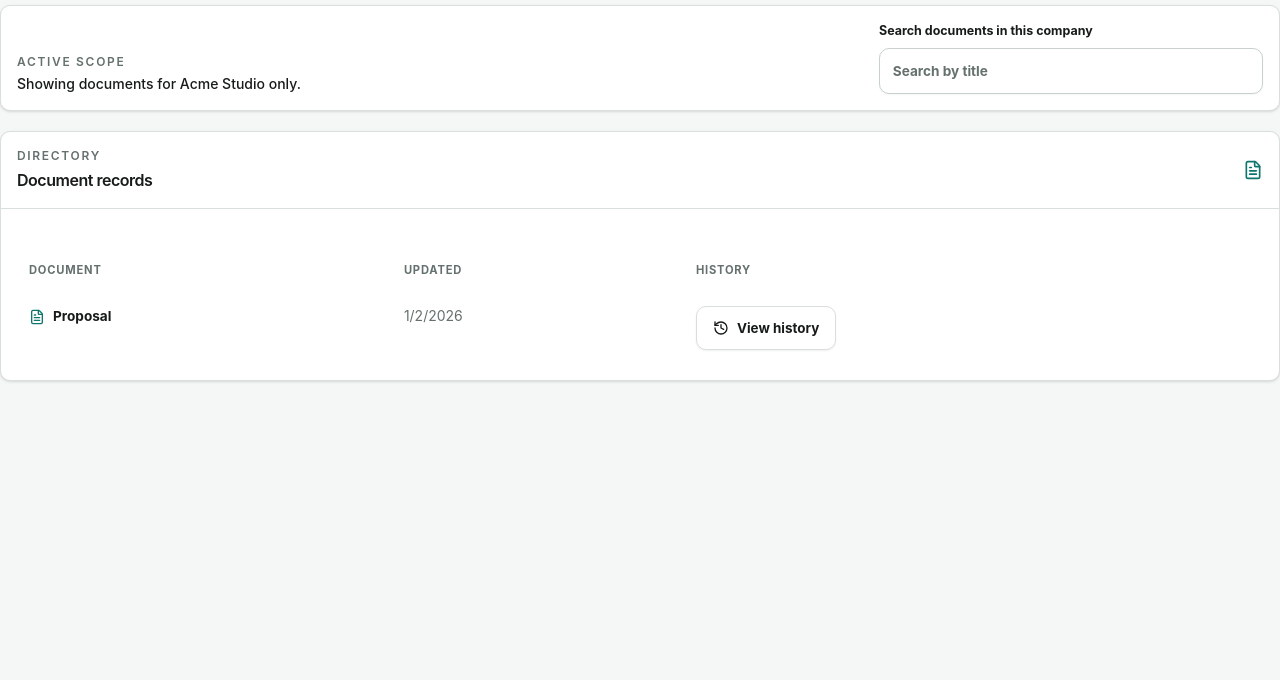
DocumentsDashboard › confirms a revert, creates a new commit, and refreshes history
Click the button "View history".
click(766, 328)  # box [696, 306, 836, 350]
(page scrolled)
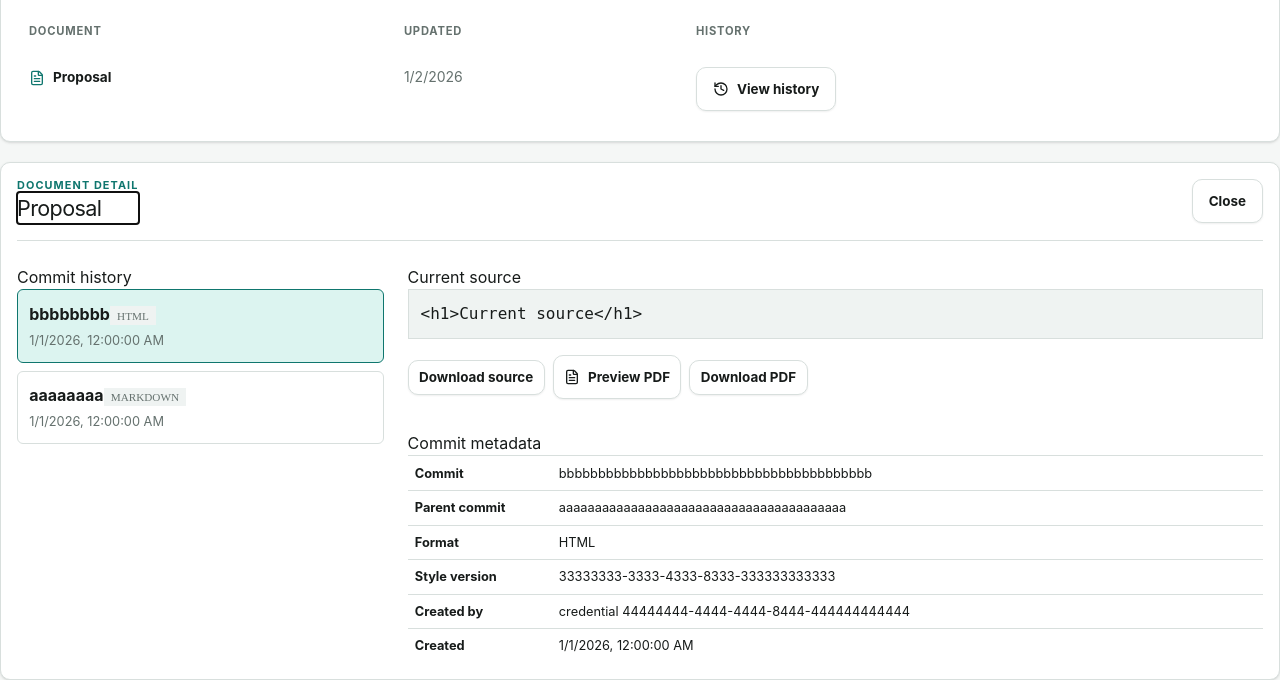
Result: the text "<h1>Current source</h1>" is shown at [408, 289, 1263, 339]
Click the 5th button.
click(66, 395)  # box [17, 371, 384, 444]
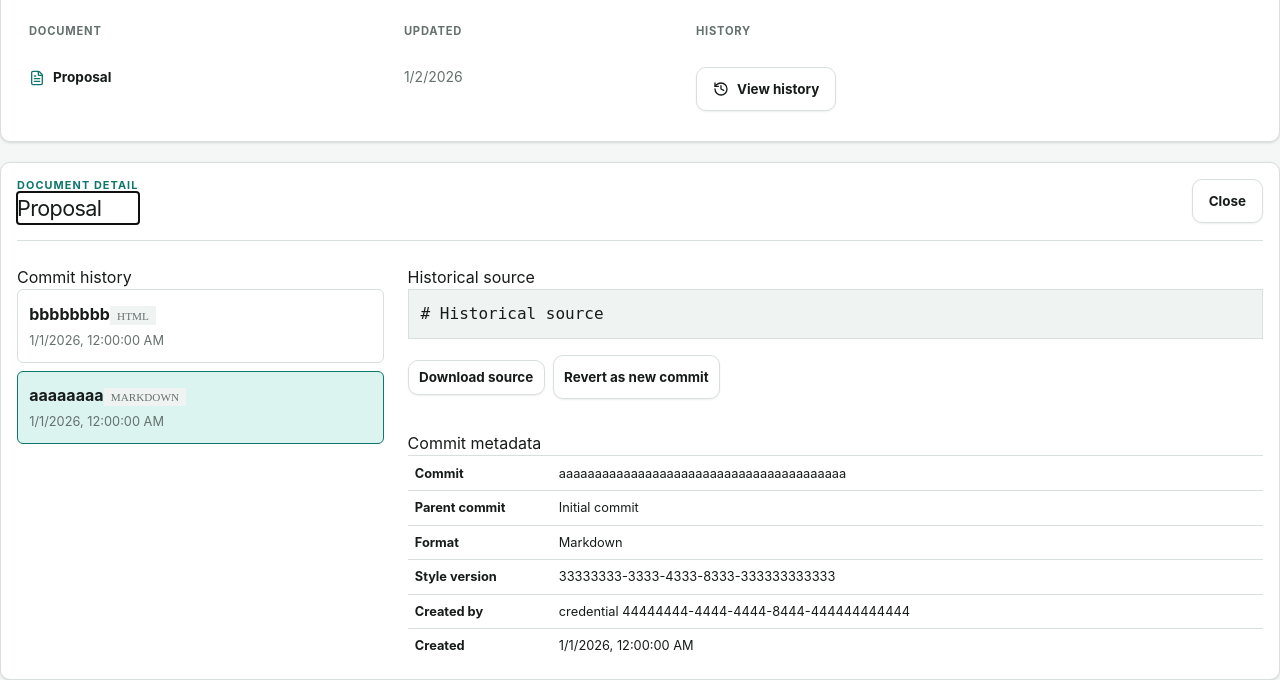
Result: the text "# Historical source" is shown at [408, 289, 1263, 339]
Click the button "Revert as new commit".
click(636, 377)  # box [553, 355, 720, 399]
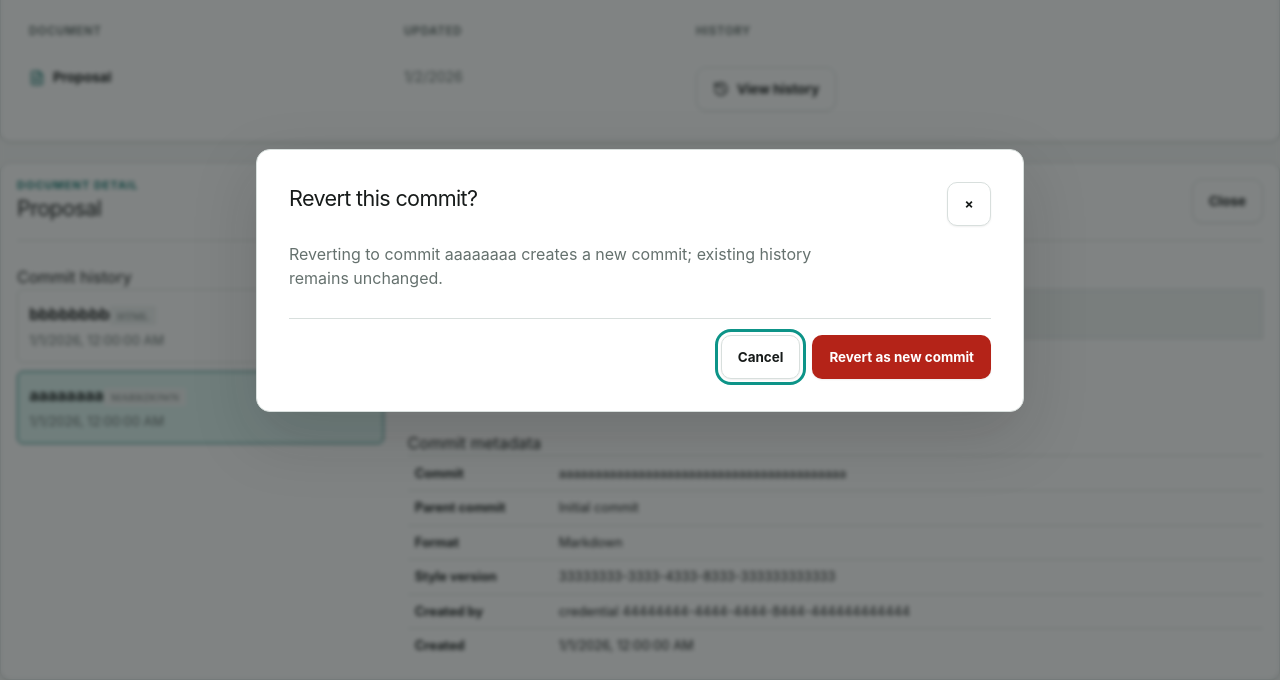
Result: the dialog shows "creates a new commit; existing history remains unchanged." at [289, 244, 811, 288]
Click the button "Revert as new commit".
click(902, 356)  # box [812, 334, 991, 378]
(page scrolled)
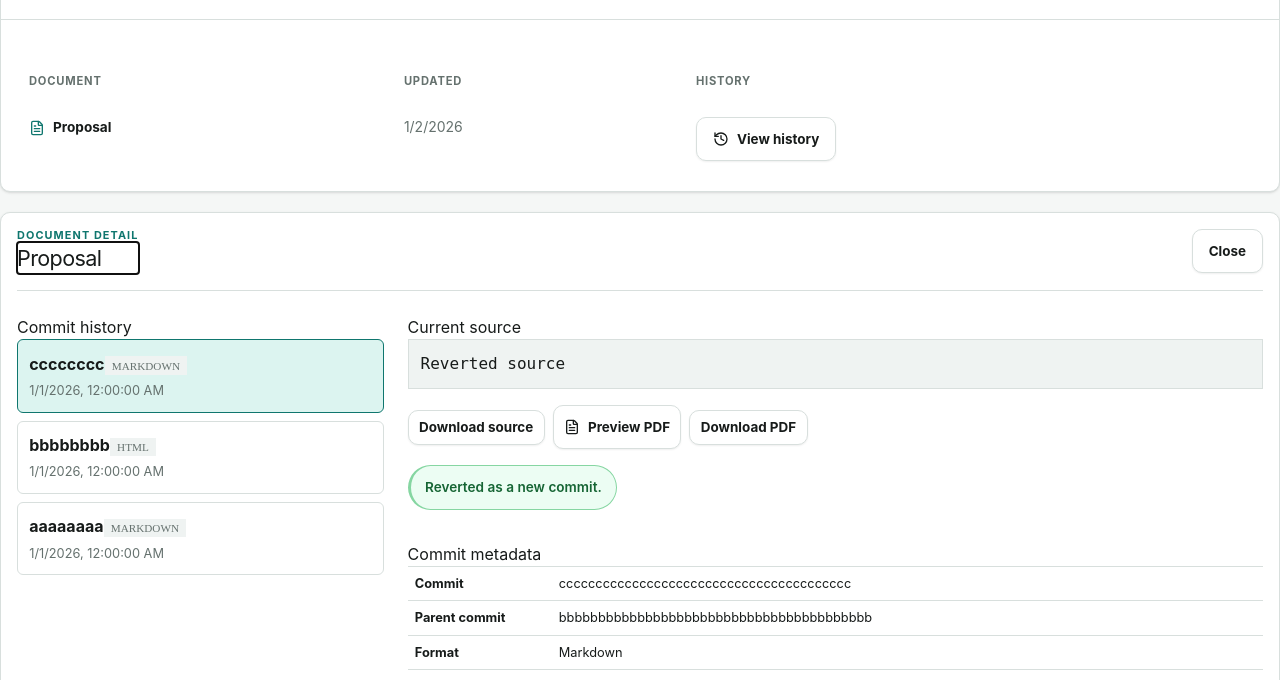
Result: the text "Reverted as a new commit." is shown at [408, 465, 617, 510]
